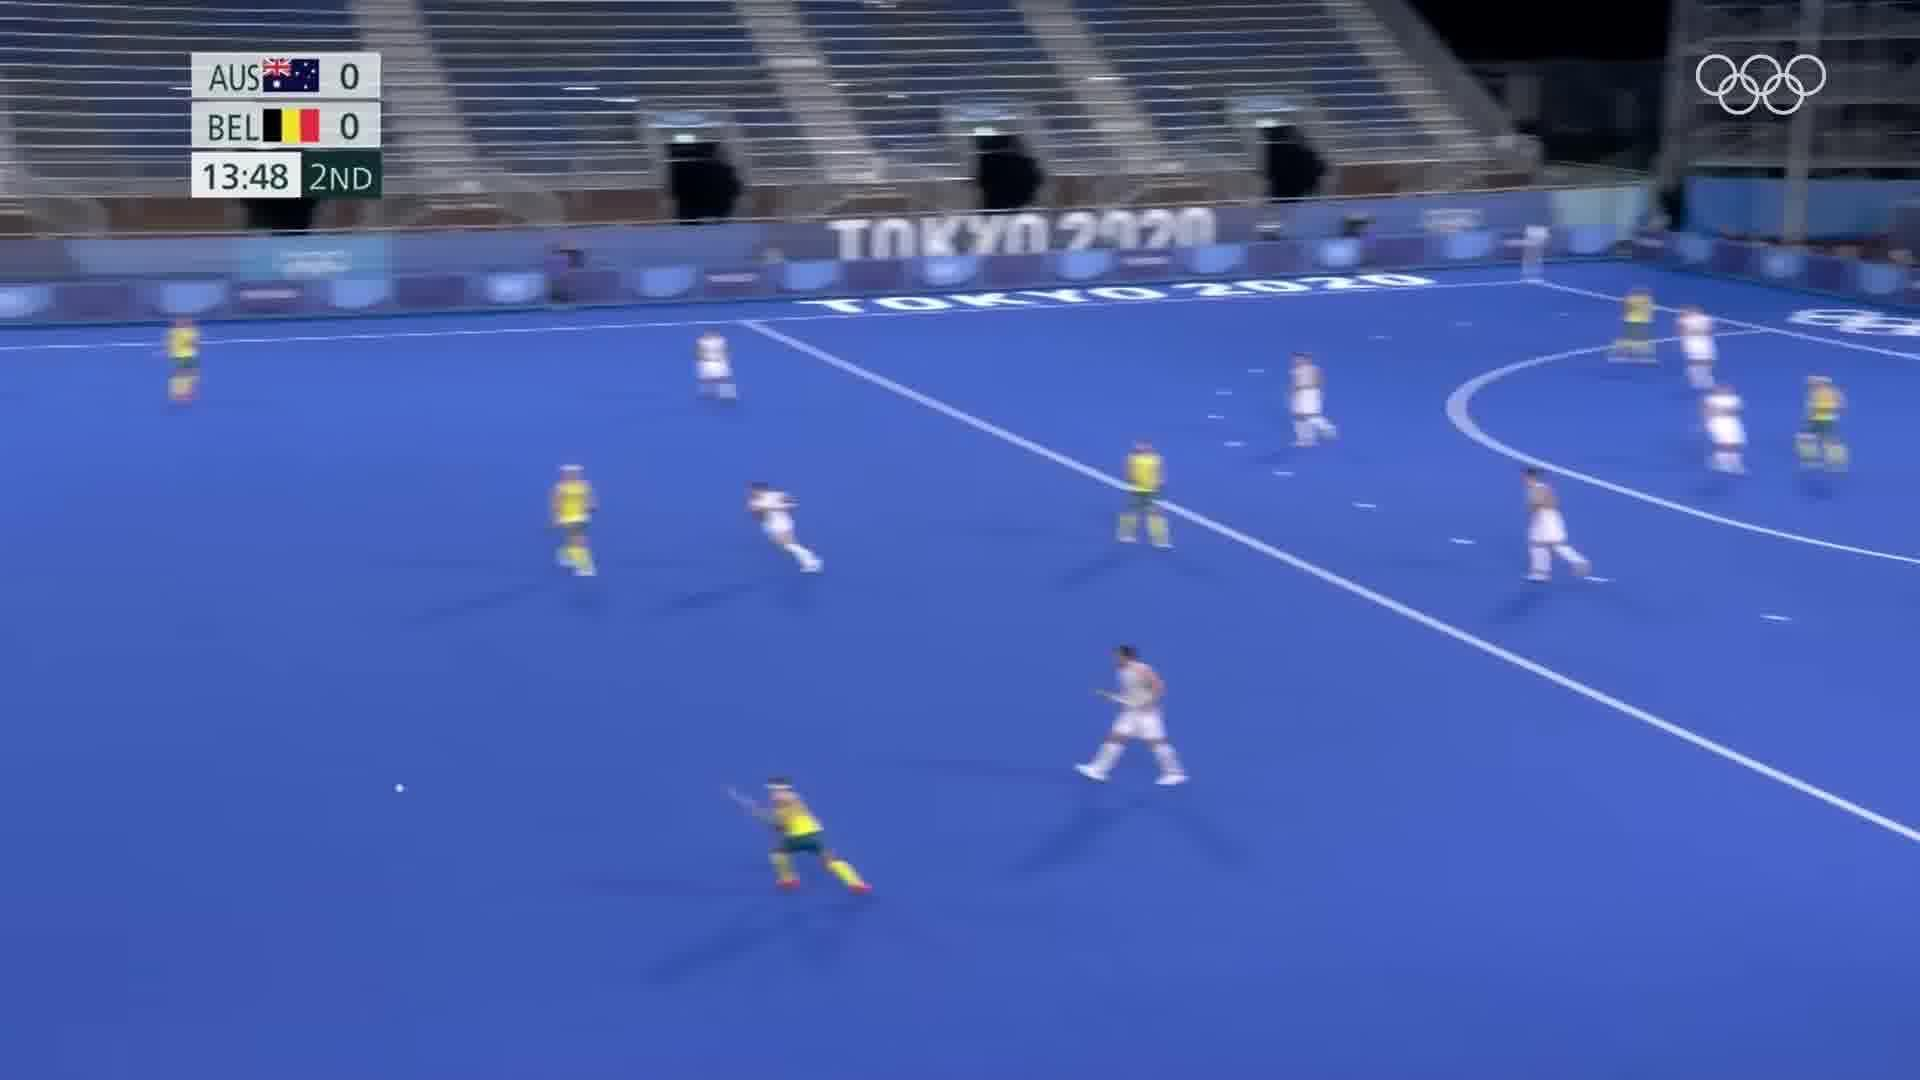ball: (385, 777, 421, 807)
